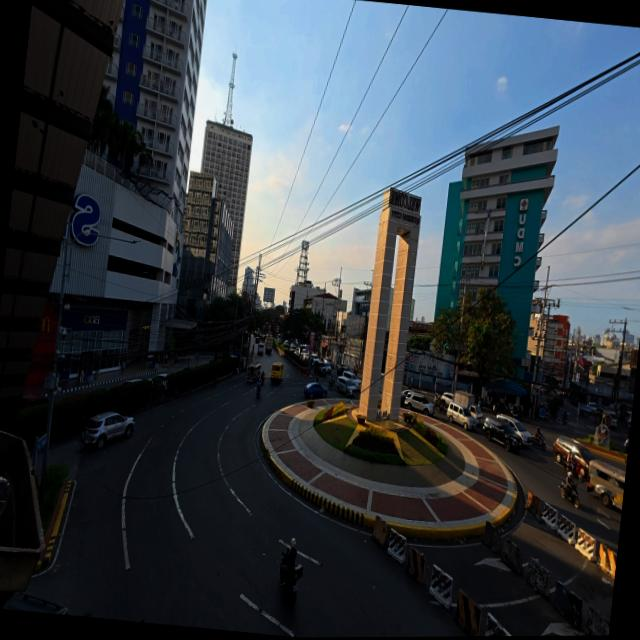Jeepneys: (586, 461, 625, 511), (246, 364, 260, 382)
car: (81, 412, 133, 448), (552, 437, 593, 480), (3, 593, 68, 615), (482, 416, 519, 451), (496, 414, 531, 445), (445, 403, 475, 430), (404, 393, 434, 416), (335, 376, 356, 397), (303, 382, 326, 399), (20, 395, 47, 409), (341, 370, 360, 389), (149, 373, 168, 391), (469, 404, 483, 425), (600, 411, 616, 428), (312, 361, 330, 376), (400, 389, 413, 407), (440, 392, 453, 407), (335, 364, 350, 377), (120, 378, 142, 385), (586, 403, 597, 413), (323, 358, 333, 369), (283, 340, 289, 347)
motorcycle: (282, 564, 302, 604), (560, 484, 579, 508), (532, 434, 545, 450), (507, 405, 519, 420), (436, 399, 446, 414), (562, 414, 567, 426), (255, 386, 260, 397), (328, 378, 333, 388), (260, 376, 263, 386)
trucks: (453, 390, 474, 407), (264, 336, 272, 354)
vans: (269, 362, 282, 383), (257, 342, 263, 354)
